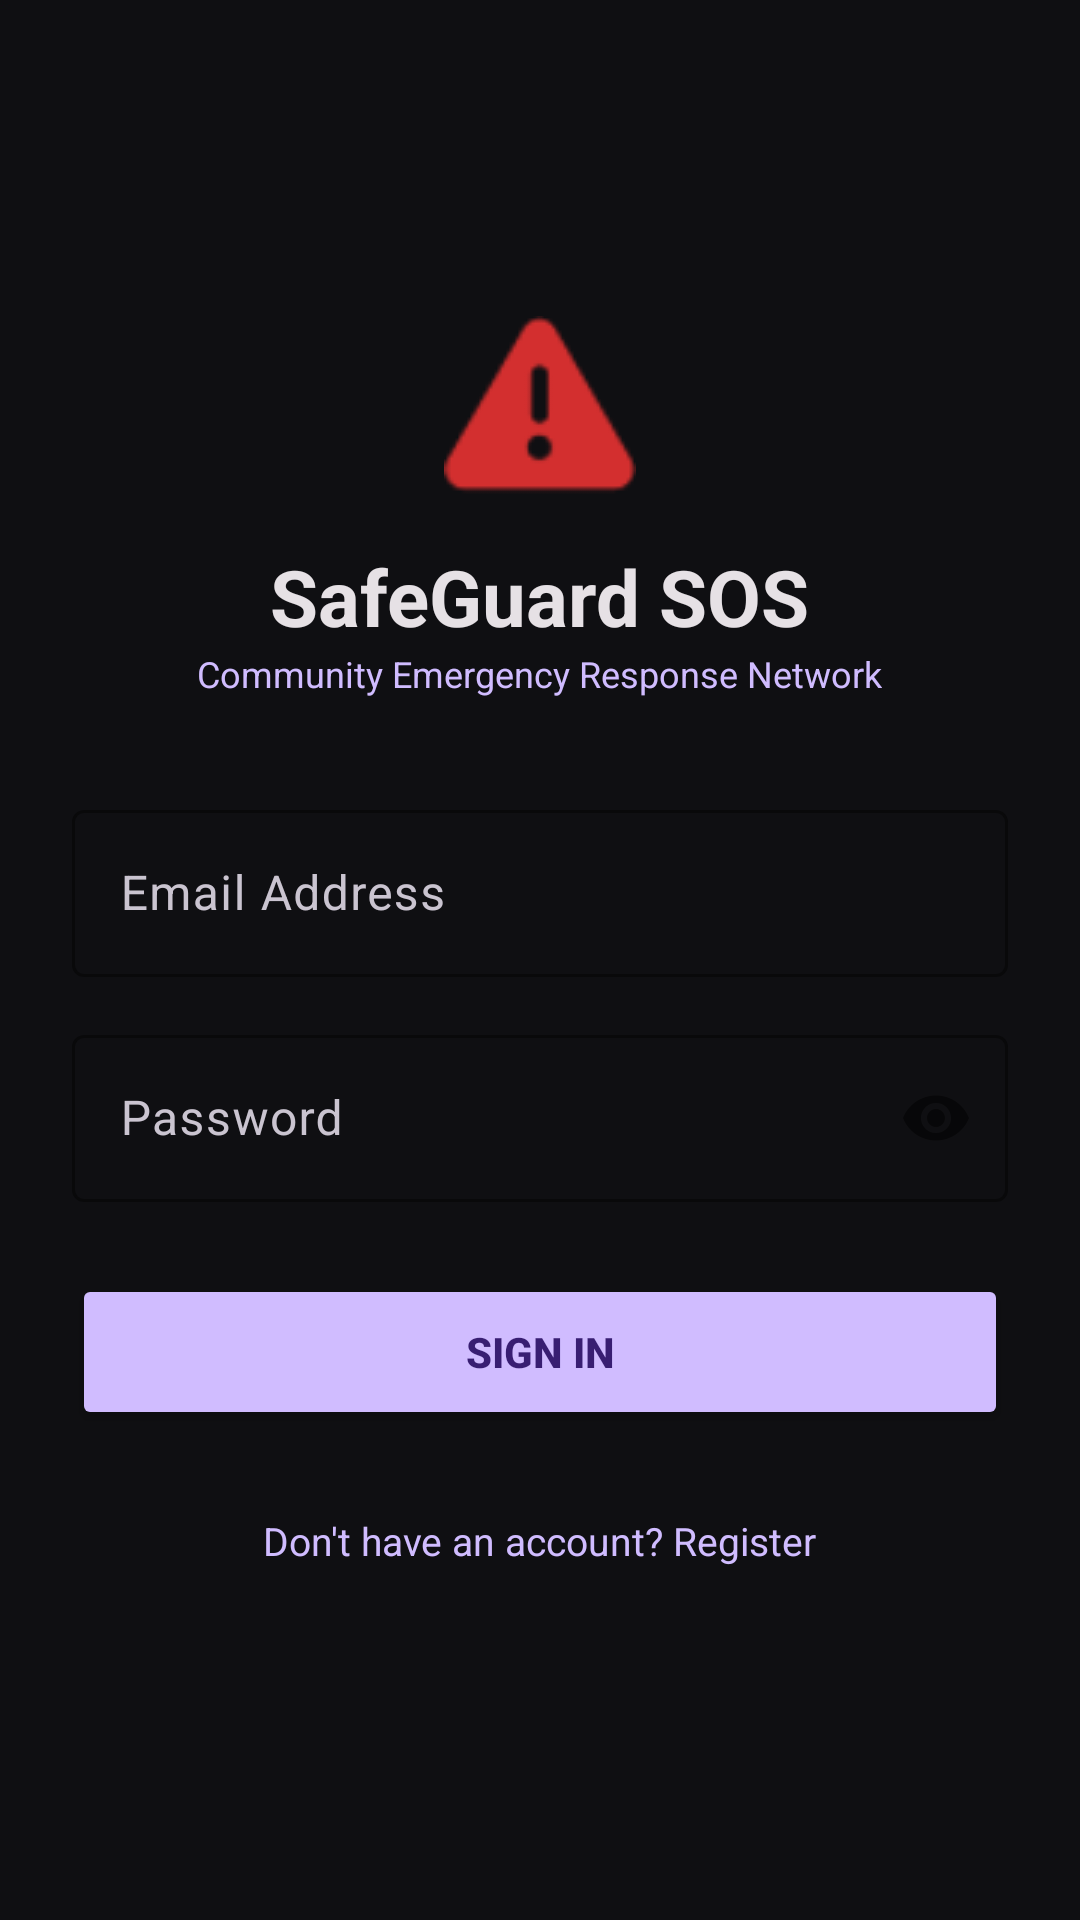

Screen size 1080x1920. Icon name, then its center in pixels as (x,y):
alert: (540,403)
